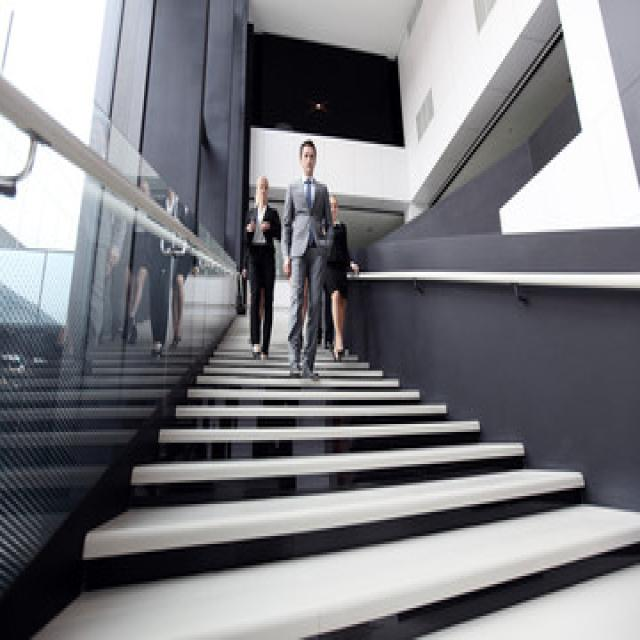stair: (0, 318, 639, 639)
